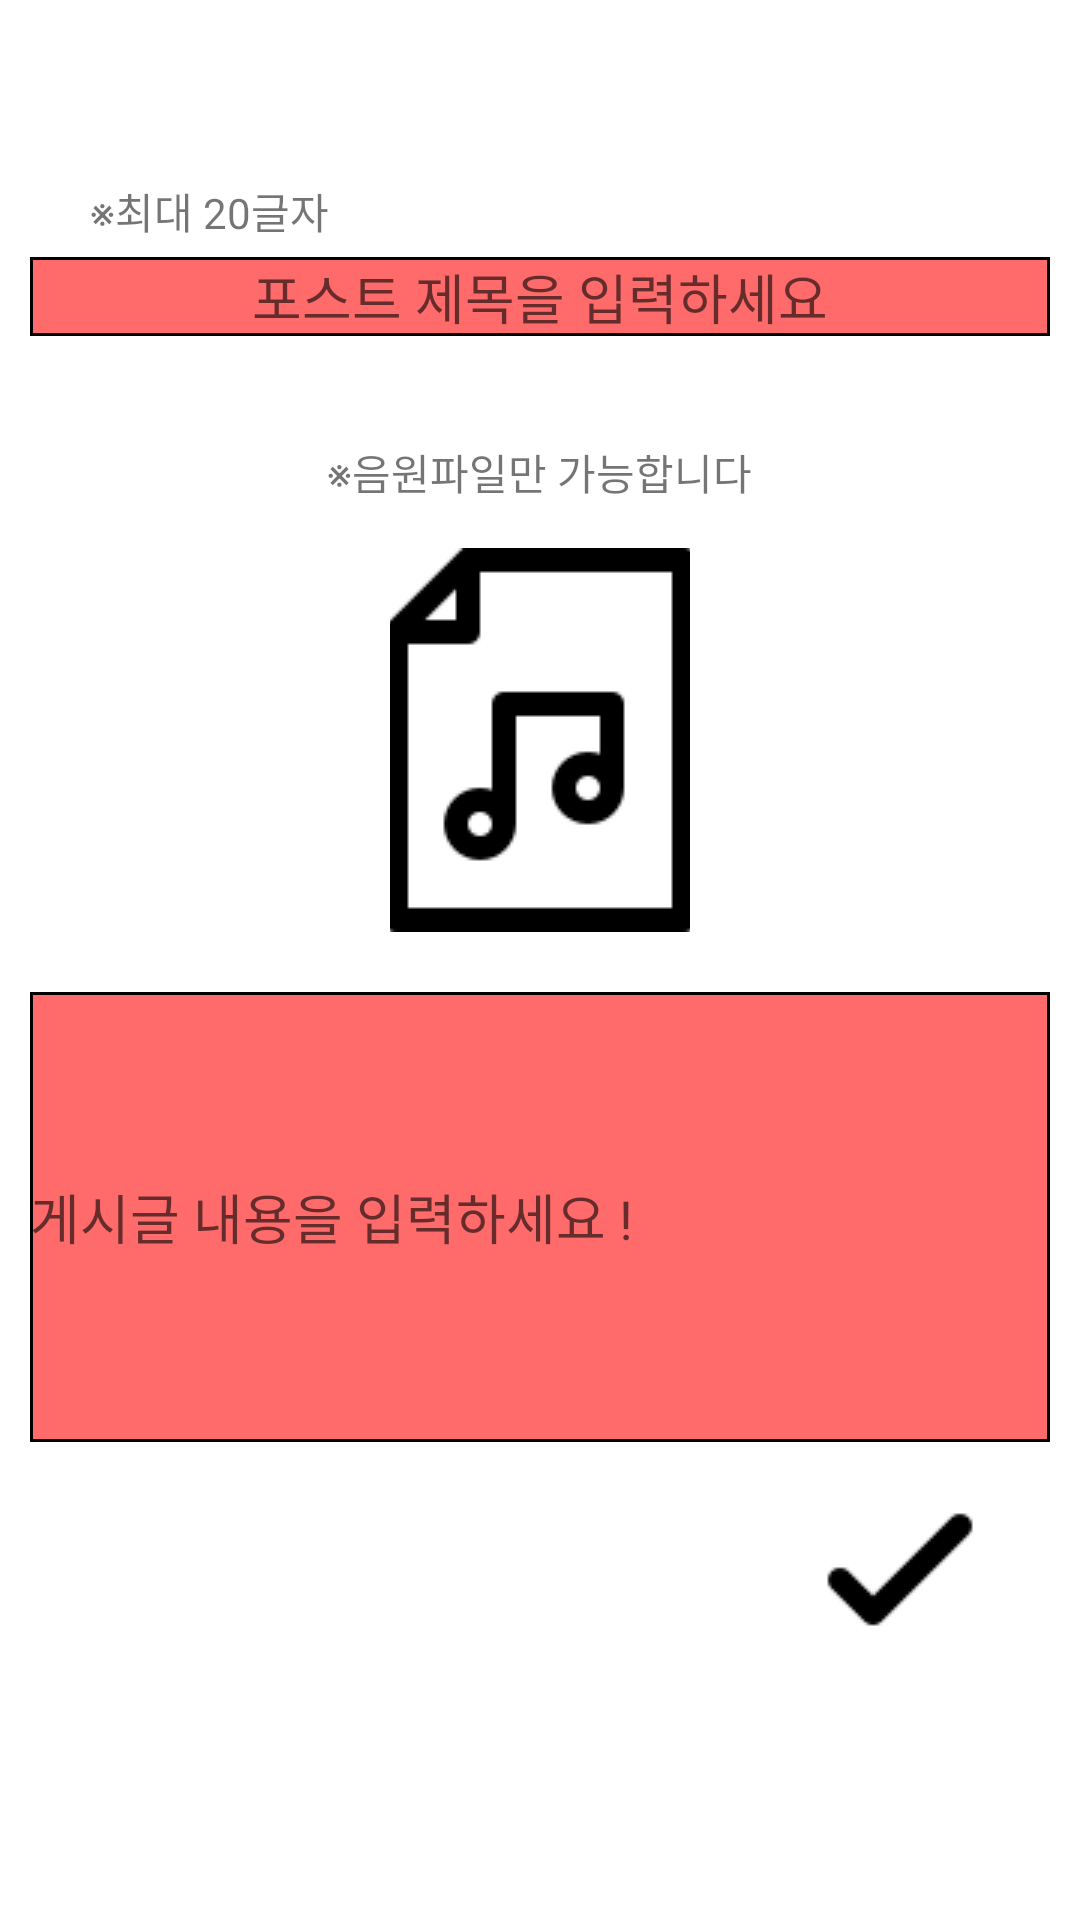

Point at icon controls on the screen. Image size 1080px x 1920px, points as (x,y).
check: (900,1569)
